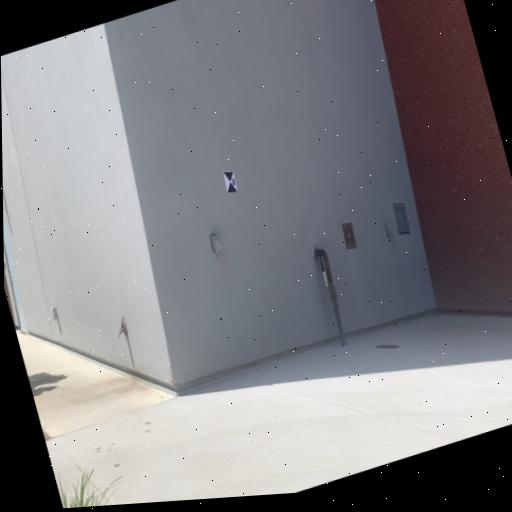target8: (222, 167, 239, 195)
